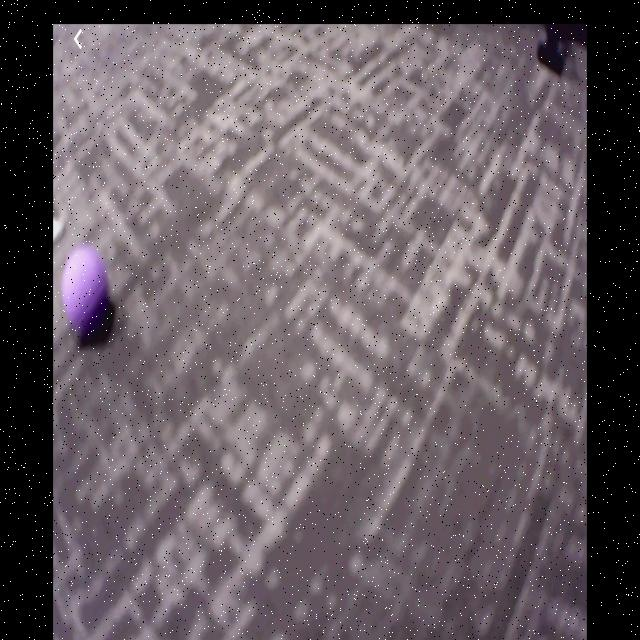ball: (62, 246, 109, 336)
